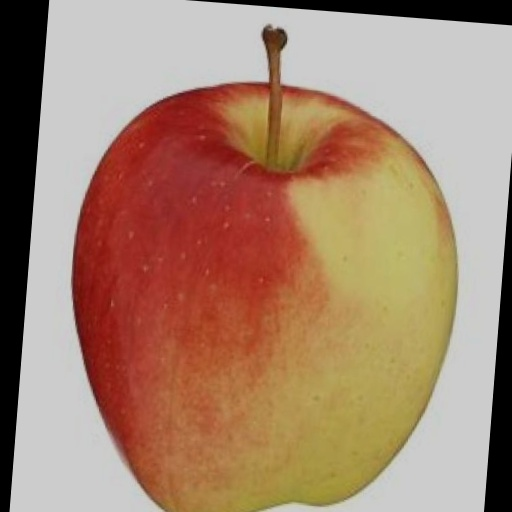fruit: (73, 29, 457, 512)
